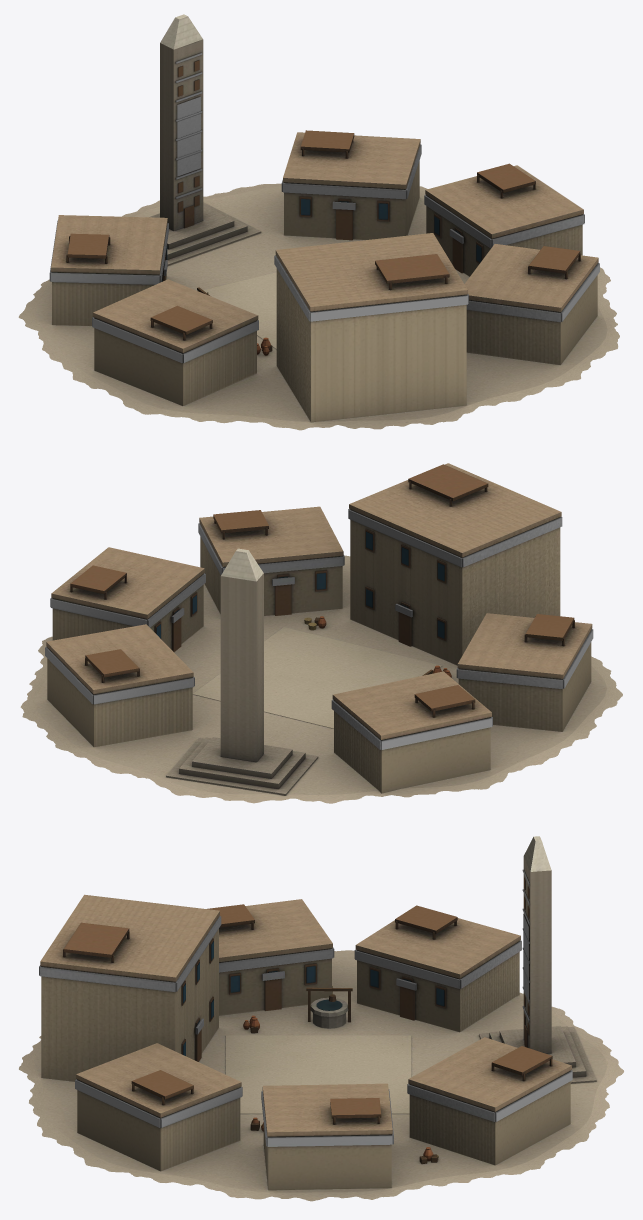
Rendered from classical-town-small-b-nile.glb.
3 views of the same model, one above another, from view 1: azimuth 30°, elevation 25°; view 2: azimuth 150°, elevation 25°; view 3: azimuth 270°, elevation 25° (orthographic).
Visible parts, largest first — view 1: LOD0; view 2: LOD0; view 3: LOD0.
Boxes of the visible parts, x1,y1,x2,y2 form: LOD0: [18, 14, 619, 430]; LOD0: [20, 463, 622, 803]; LOD0: [19, 836, 623, 1201].
Size of what is drawn, in the model's own units: 3.95 by 1.6 by 3.98.
Materials: 3 (3 with a texture image).
